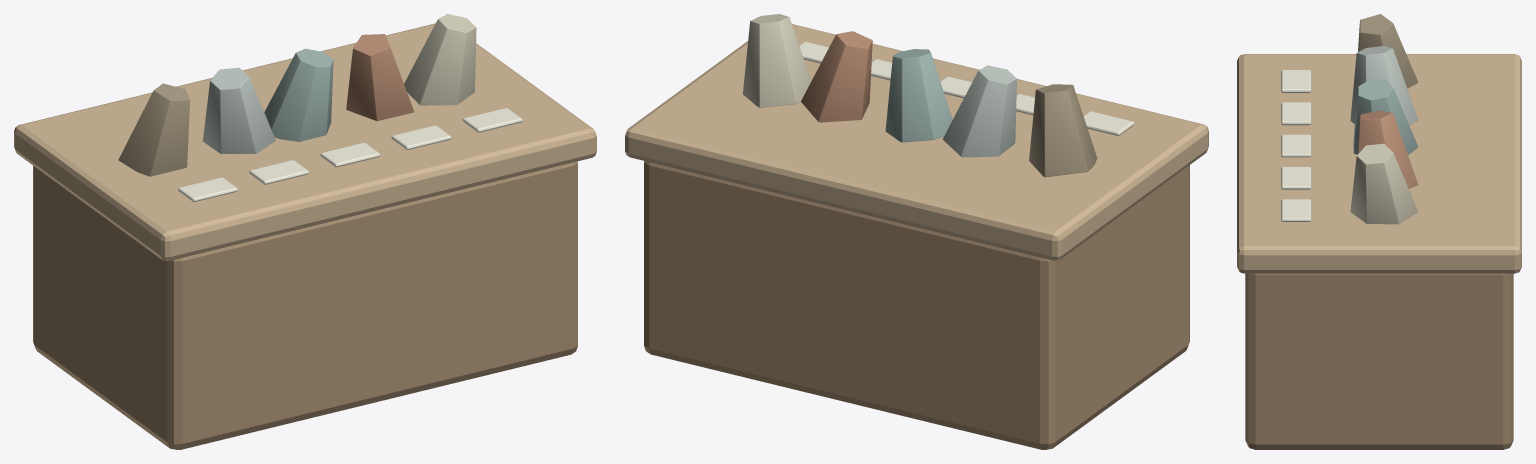
File: mineral-display.glb
3 renders of one model, left to right at view 1: azimuth 30°, elevation 25°; view 2: azimuth 150°, elevation 25°; view 3: azimuth 270°, elevation 25°, orthographic. The views are drawn at different scales.
Parts seen in each view (by area): view 1: Display base, Table top, Faceted specimen.004, Faceted specimen.002, Faceted specimen, Faceted specimen.001, Faceted specimen.003, Specimen marker.002, Specimen marker.003, Specimen marker.004, Specimen marker, Specimen marker.001; view 2: Display base, Table top, Faceted specimen.004, Faceted specimen.001, Faceted specimen.002, Faceted specimen, Faceted specimen.003, Specimen marker; view 3: Table top, Display base, Faceted specimen.004, Faceted specimen.001, Faceted specimen.002, Faceted specimen.003, Faceted specimen, Specimen marker.002, Specimen marker.001, Specimen marker, Specimen marker.003, Specimen marker.004.
Boxes of the visible parts, <box> form: Display base: <box>33,161,577,449</box>; Table top: <box>14,23,596,260</box>; Faceted specimen.004: <box>404,14,476,105</box>; Faceted specimen.002: <box>264,48,333,141</box>; Faceted specimen: <box>118,83,189,176</box>; Faceted specimen.001: <box>202,67,275,153</box>; Faceted specimen.003: <box>346,34,414,121</box>; Specimen marker.002: <box>320,142,380,167</box>; Specimen marker.003: <box>391,125,451,149</box>; Specimen marker.004: <box>462,108,522,132</box>; Specimen marker: <box>178,177,237,201</box>; Specimen marker.001: <box>249,160,308,184</box>; Display base: <box>644,161,1189,449</box>; Table top: <box>625,24,1208,260</box>; Faceted specimen.004: <box>743,14,811,107</box>; Faceted specimen.001: <box>942,65,1016,157</box>; Faceted specimen.002: <box>885,49,952,142</box>; Faceted specimen: <box>1029,84,1097,177</box>; Faceted specimen.003: <box>801,31,872,122</box>; Specimen marker: <box>1083,111,1134,135</box>; Table top: <box>1237,54,1521,273</box>; Display base: <box>1245,273,1513,449</box>; Faceted specimen.004: <box>1350,143,1418,224</box>; Faceted specimen.001: <box>1350,46,1417,124</box>; Faceted specimen.002: <box>1353,79,1418,154</box>; Faceted specimen.003: <box>1358,110,1418,188</box>; Faceted specimen: <box>1358,14,1417,88</box>; Specimen marker.002: <box>1281,134,1311,157</box>; Specimen marker.001: <box>1281,102,1311,125</box>; Specimen marker: <box>1281,70,1311,92</box>; Specimen marker.003: <box>1281,167,1311,189</box>; Specimen marker.004: <box>1281,199,1311,221</box>.
Size of the model in its own units: 2.02 by 1.33 by 1.23.
